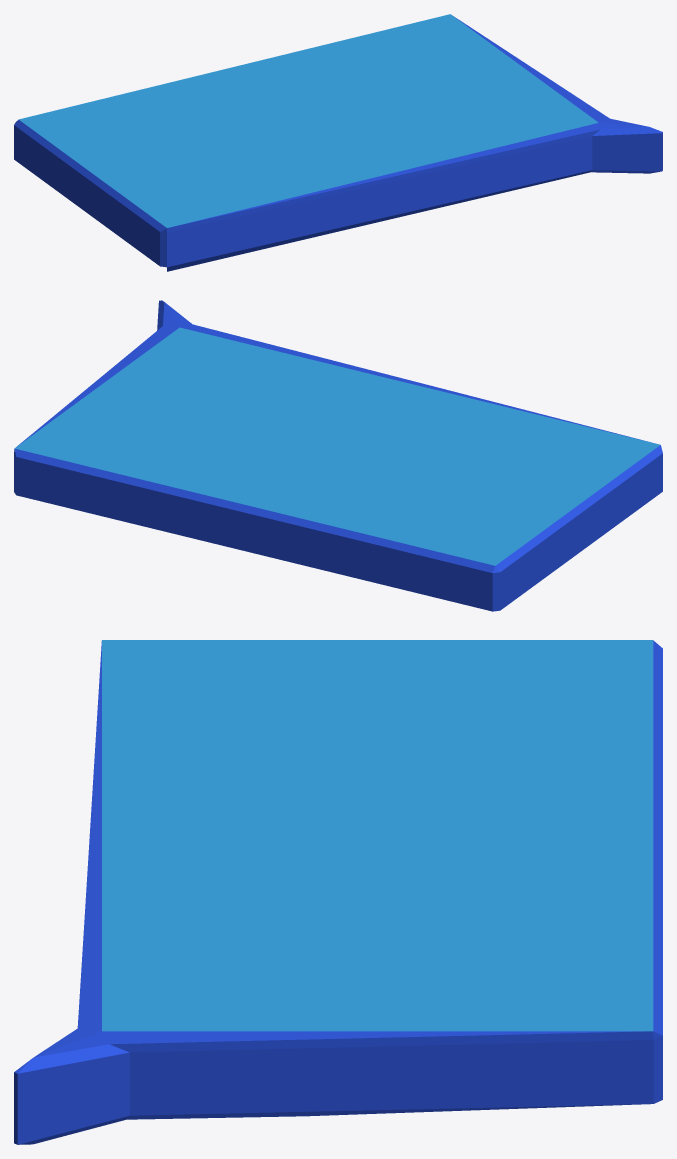
File: TextBox.fbx
3 views of the same model, one above another, from view 1: azimuth 30°, elevation 25°; view 2: azimuth 150°, elevation 25°; view 3: azimuth 270°, elevation 25° (orthographic). The views are drawn at different scales.
Parts seen in each view (by area): view 1: Cube; view 2: Cube; view 3: Cube.
Part boxes in pixels (x1,y1,x2,y2): Cube: (14,14,662,271); Cube: (14,300,662,611); Cube: (14,640,662,1144).
Size of the model in its own units: 1095 by 102 by 694.
